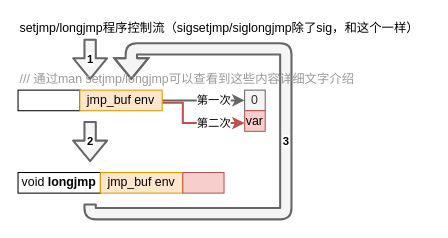
Some shapes in this 448 by 238 pixel diagram are drawn without their labels. The shapes that lost their labels are listed below. From the top down, each one's box as (x1, y1, x2, y2) in pixels, then its label:
(17, 89, 80, 111): int setjmp
(182, 171, 224, 193): int val
